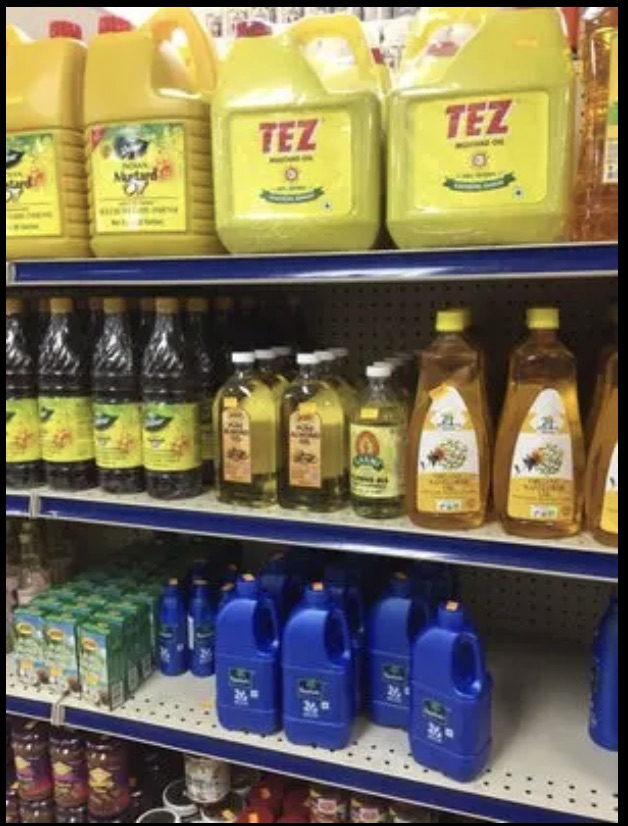parachute: (0, 260, 628, 546)
